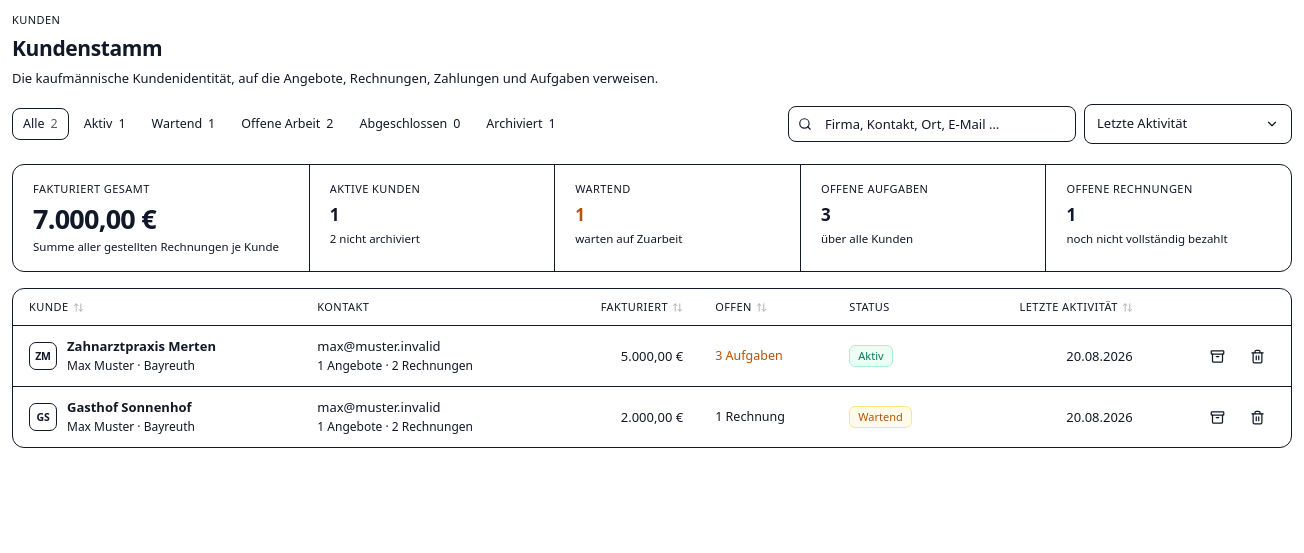
it: customer workspace › searches the city, not only the company name
The width and height of the screenshot is (1304, 553).
Expected: the table is shown, x1=13 y1=289 x2=1291 y2=447
In the search field named "Kunden durchsuchen": (932, 124) x1=788 y1=106 x2=1076 y2=142, type "regensburg"
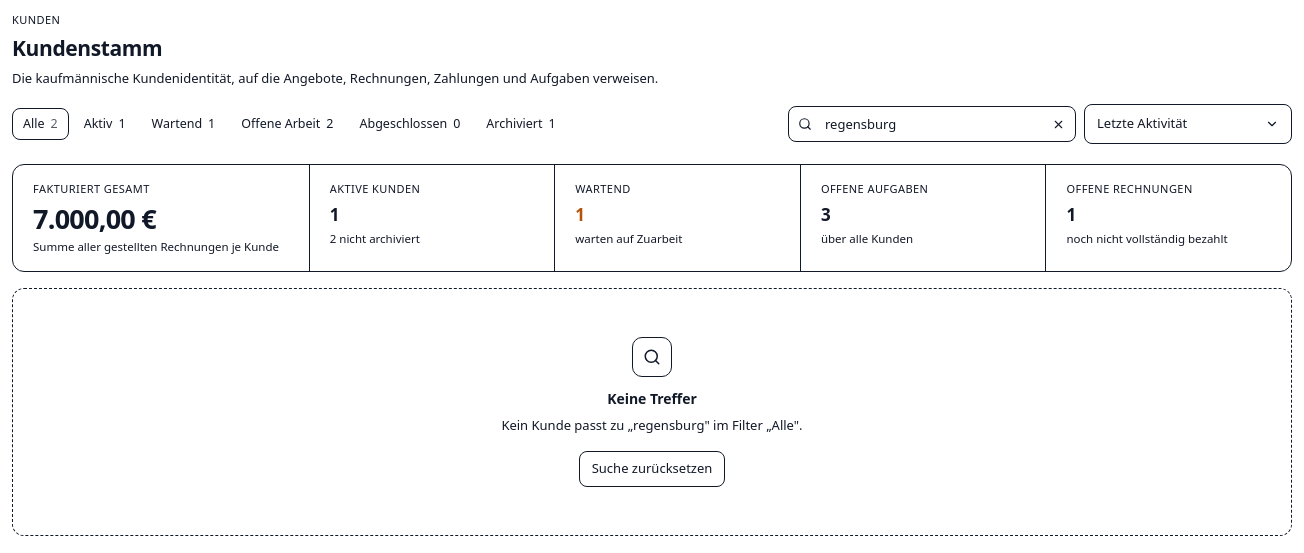
Expected: the text "Keine Treffer" is shown, x1=607 y1=389 x2=697 y2=409
Expected: the text "Kein Kunde passt zu „regensburg\" im Filter „Alle\"." is shown, x1=501 y1=415 x2=803 y2=435
